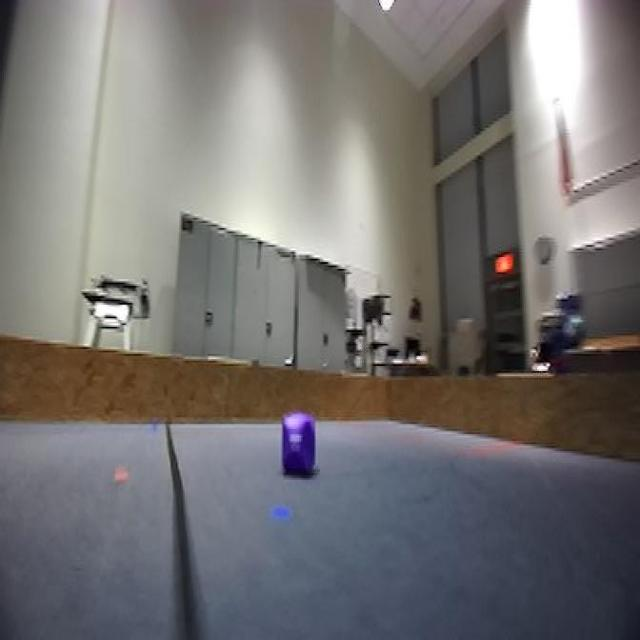frc_cube: (281, 419, 317, 480)
